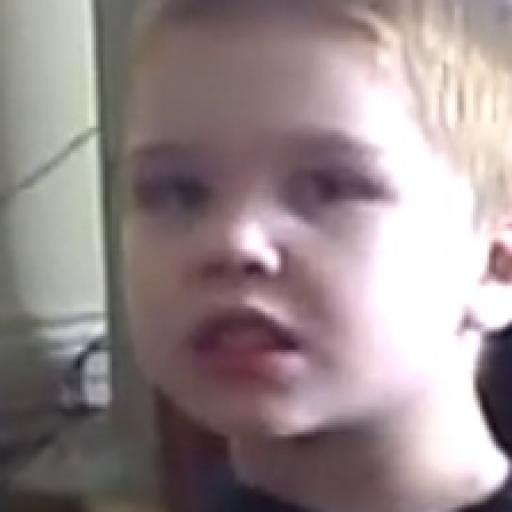Autism: (119, 0, 512, 464)
